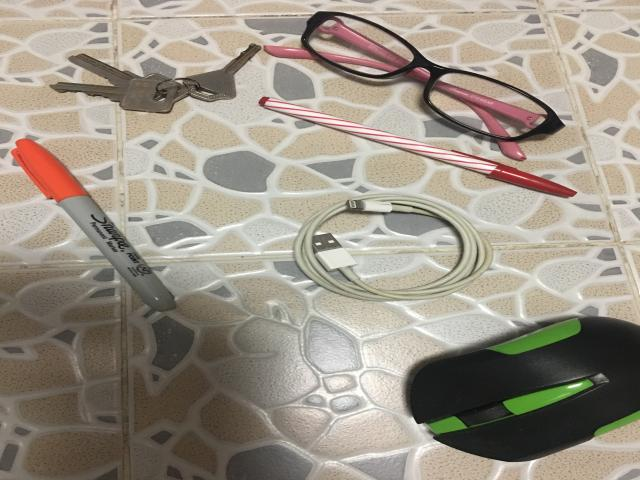Glasses: (265, 11, 563, 159)
Keys: (50, 45, 262, 112)
Mouse: (410, 317, 640, 461)
Pen: (258, 97, 577, 197), (12, 139, 175, 311)
wire: (293, 194, 493, 301)
